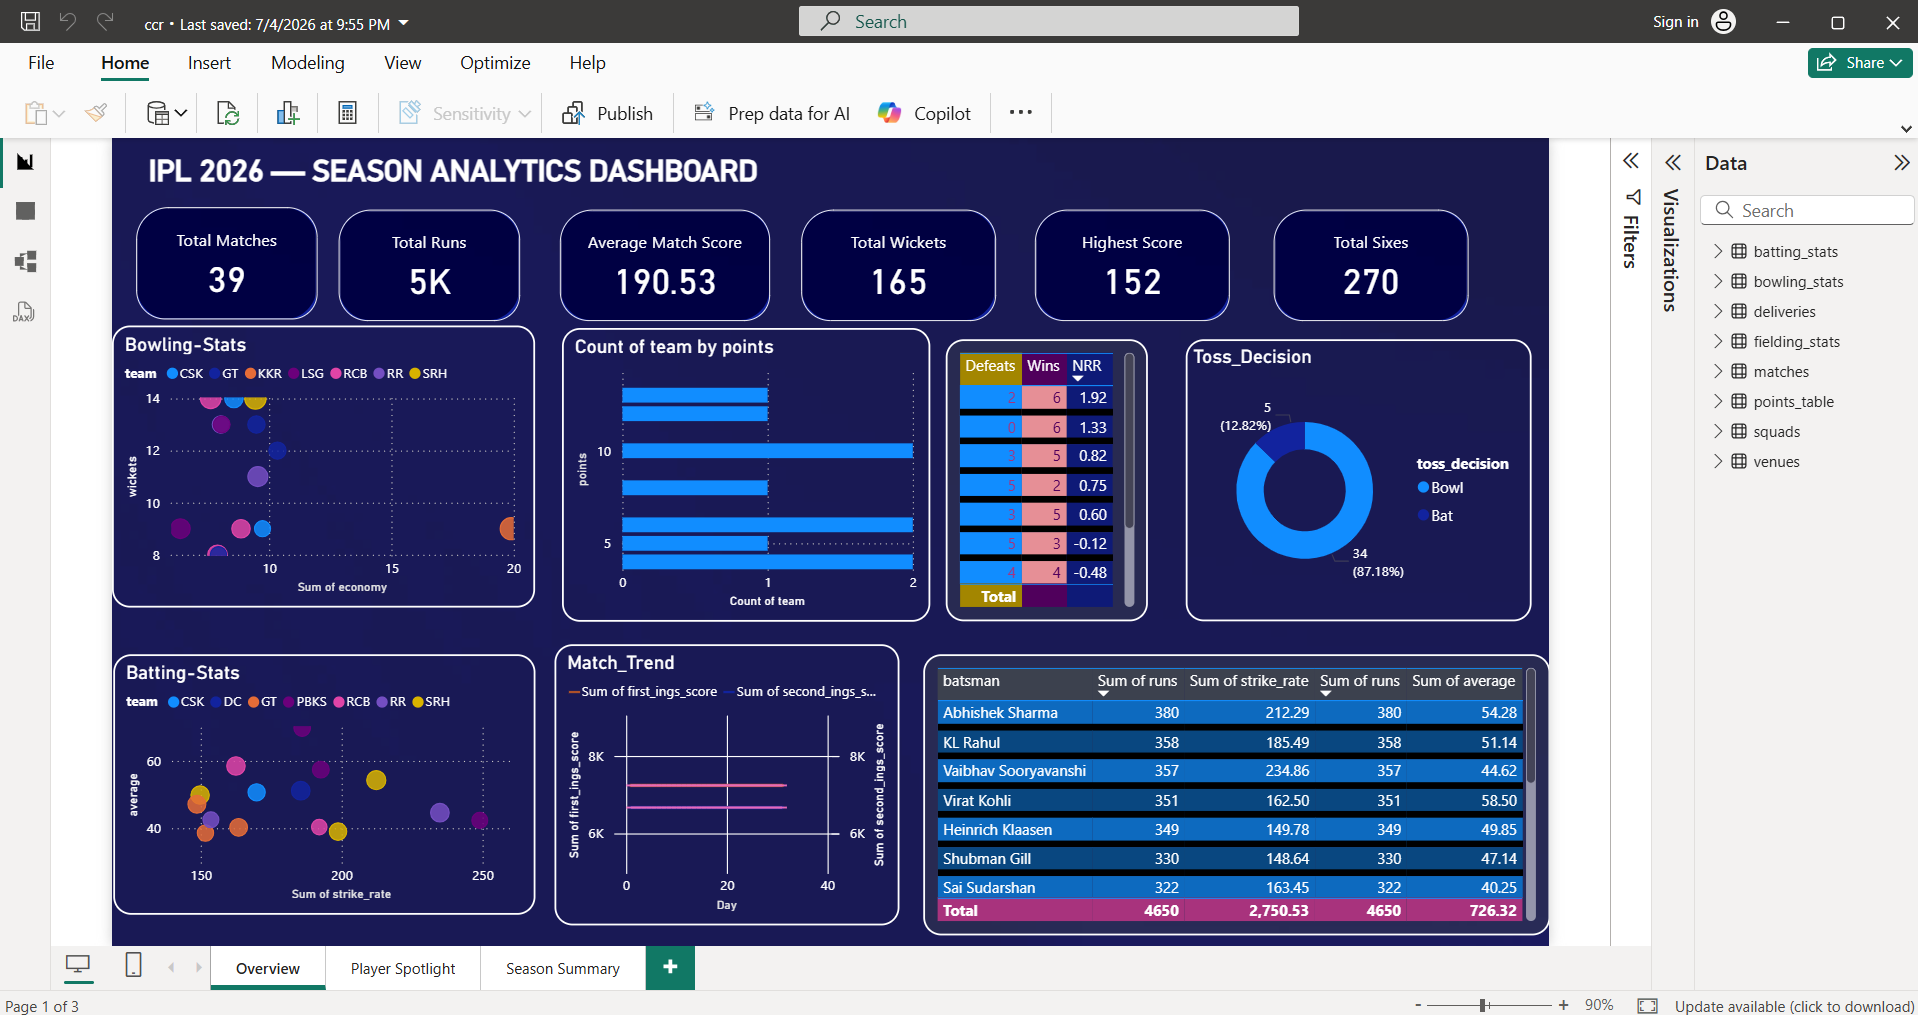

The page's visual inventory and layout, read from the dashboard file:
{"tool":"powerbi","page":{"name":"Overview","canvas":[1280,720],"ordinal":0},"visuals":[{"type":"cardVisual","fields":{"Data":["batting_stats.Total Matche1"]},"box":[16.7,56.8,171.4,110.2],"z":0},{"type":"cardVisual","fields":{"Data":["batting_stats.Total Runs1"]},"box":[197,59,171.4,109.1],"z":1000},{"type":"cardVisual","fields":{"Data":["batting_stats.Average Match Score"]},"box":[394.1,59,197,109.1],"z":2000},{"type":"cardVisual","fields":{"Data":["batting_stats.Total Wickets1"]},"box":[608.9,59,183.7,109.1],"z":3000},{"type":"cardVisual","fields":{"Data":["batting_stats.Highest Score1"]},"box":[817.1,59,183.7,109.1],"z":4000},{"type":"cardVisual","fields":{"Data":["batting_stats.Total Sixes1"]},"box":[1029.7,59,183.7,109.1],"z":5000},{"type":"scatterChart","title":"Batting-Stats","fields":{"X":["Sum(batting_stats.strike_rate)"],"Series":["batting_stats.team"],"Y":["batting_stats.average"],"Size":["Sum(batting_stats.runs)"]},"box":[1.4,459.7,376,231.9],"z":6000},{"type":"scatterChart","title":"Bowling-Stats","fields":{"X":["Sum(bowling_stats.economy)"],"Series":["bowling_stats.team"],"Y":["bowling_stats.wickets"],"Size":["Sum(batting_stats.impact)"]},"box":[0,167.4,376.7,251.2],"z":7000},{"type":"clusteredBarChart","fields":{"Y":["CountNonNull(batting_stats.team)"],"Category":["points_table.points"]},"box":[400.7,169.2,328.4,261.6],"z":8000},{"type":"tableEx","fields":{"Values":["points_table.defeats","points_table.wins","points_table.nrr"]},"box":[743,179.1,180.2,251.2],"z":9000},{"type":"donutChart","title":"Toss_Decision","fields":{"Y":["CountNonNull(matches.toss_decision)"],"Category":["matches.toss_decision"]},"box":[955.8,179.1,308.1,251.2],"z":10000},{"type":"lineChart","title":"Match_Trend","fields":{"Y":["Sum(matches.first_ings_score)"],"Y2":["Sum(matches.second_ings_score)"],"Category":["deliveries.date.Variation.Date Hierarchy.Day"]},"box":[394.2,451.2,307,250],"z":11000},{"type":"tableEx","fields":{"Values":["batting_stats.batsman","Sum(batting_stats.runs)","Sum(batting_stats.strike_rate)","Sum(batting_stats.runs)","Sum(batting_stats.average)"]},"box":[722.1,459.3,558.1,250],"z":12000},{"type":"textbox","title":"IPL 2026 — SEASON ANALYTICS DASHBOARD   ","box":[27.6,9.6,601.6,76.8],"z":13000}]}

Visuals, with their boxes on the page's 1280x720 design canvas (x1, y1, x2, y2). These are canvas units, not pixel positions in the 1918x1015 screenshot, which may show the page scaled, cropped or inside an application window:
cardVisual - batting_stats.Total Matche1: region(17, 57, 188, 167)
cardVisual - batting_stats.Total Runs1: region(197, 59, 368, 168)
cardVisual - batting_stats.Average Match Score: region(394, 59, 591, 168)
cardVisual - batting_stats.Total Wickets1: region(609, 59, 793, 168)
cardVisual - batting_stats.Highest Score1: region(817, 59, 1001, 168)
cardVisual - batting_stats.Total Sixes1: region(1030, 59, 1213, 168)
"Batting-Stats" scatterChart: region(1, 460, 377, 692)
"Bowling-Stats" scatterChart: region(0, 167, 377, 419)
clusteredBarChart - CountNonNull(batting_stats.team) x points_table.points: region(401, 169, 729, 431)
tableEx - points_table.defeats x points_table.wins: region(743, 179, 923, 430)
"Toss_Decision" donutChart: region(956, 179, 1264, 430)
"Match_Trend" lineChart: region(394, 451, 701, 701)
tableEx - batting_stats.batsman x Sum(batting_stats.runs): region(722, 459, 1280, 709)
"IPL 2026 — SEASON ANALYTICS DASHBOARD   " textbox: region(28, 10, 629, 86)
